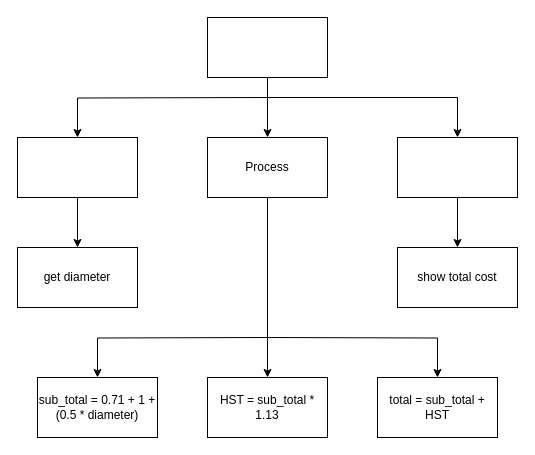
Some shapes in this 535 by 455 pixel diagram are drawn without their labels. The shapes that lost their labels are listed below. From the top down, each one's box as (x1, y1, x2, y2) in pixels, then its label:
(206, 16, 328, 78): Circumference of a circle
(16, 136, 138, 198): Input
(396, 136, 518, 198): Output
